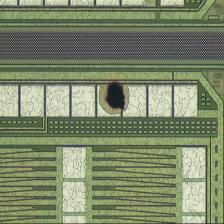PARTICLE: (99, 72, 133, 116)
